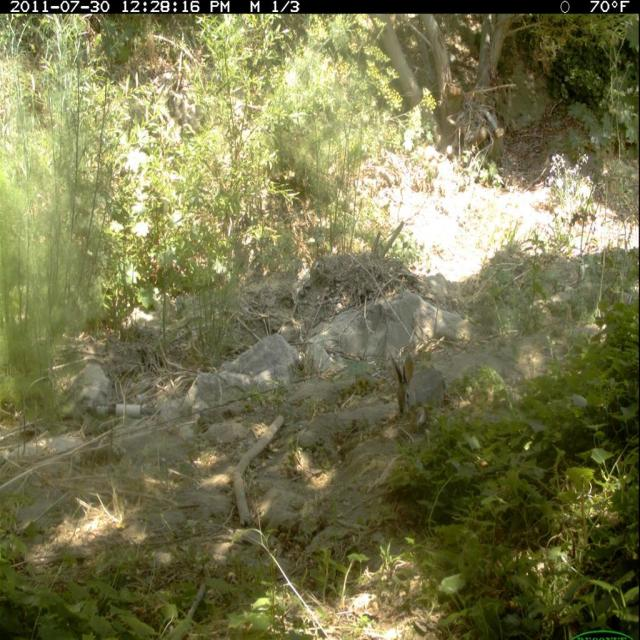rabbit: (389, 349, 450, 431)
